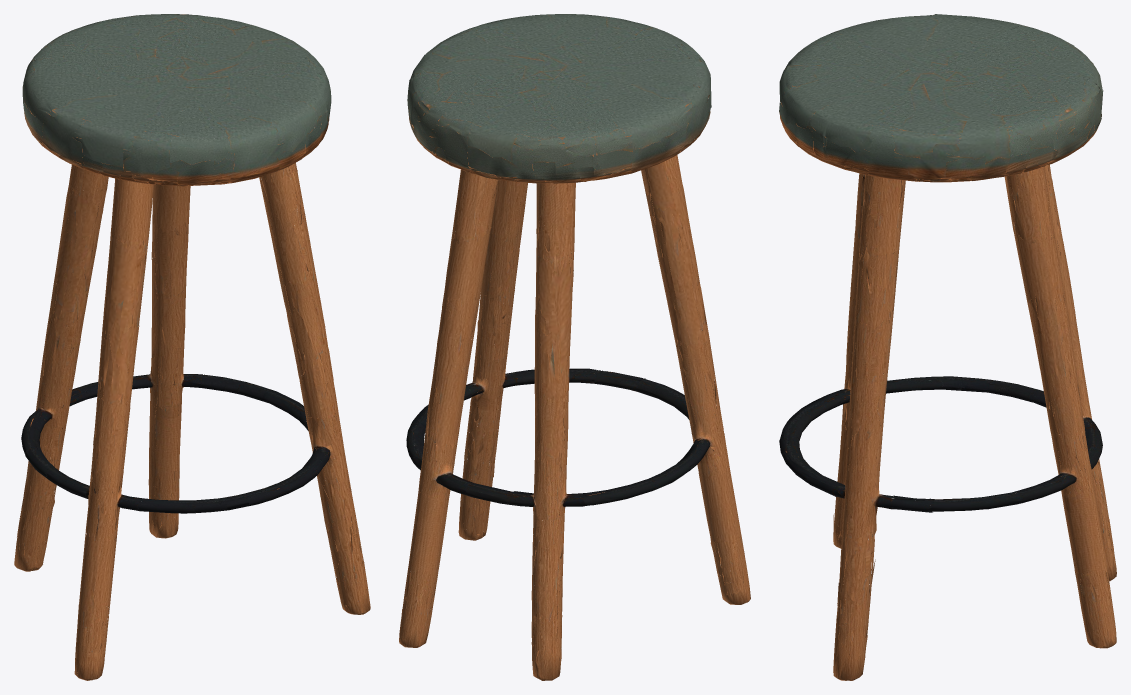
The model's file is oak-island-stool.glb.
3 views of the same model, side by side, from view 1: azimuth 30°, elevation 25°; view 2: azimuth 150°, elevation 25°; view 3: azimuth 270°, elevation 25° (orthographic).
Parts seen in each view (by area): view 1: Mesh_0; view 2: Mesh_0; view 3: Mesh_0.
Boxes of the visible parts, x1,y1,x2,y2 form: Mesh_0: (14, 14, 370, 680); Mesh_0: (399, 14, 750, 680); Mesh_0: (779, 14, 1116, 680).
Bounding box in the file's own units: 0.4402 × 0.7753 × 0.4394.
Materials: 1 (1 with a texture image).
